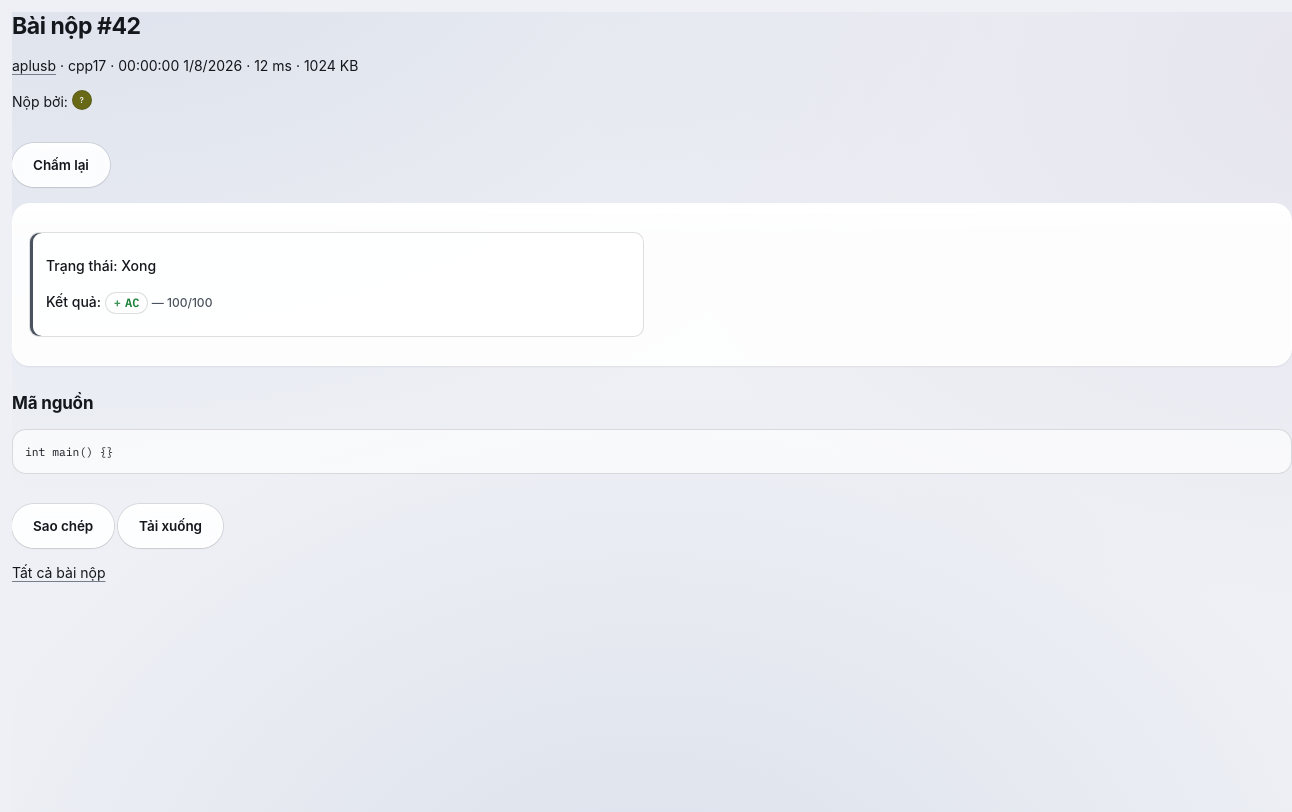
Test: rejudging one submission › a transport failure does not wedge the button
Click the button "Chấm lại": (61, 165) x1=12 y1=143 x2=110 y2=187
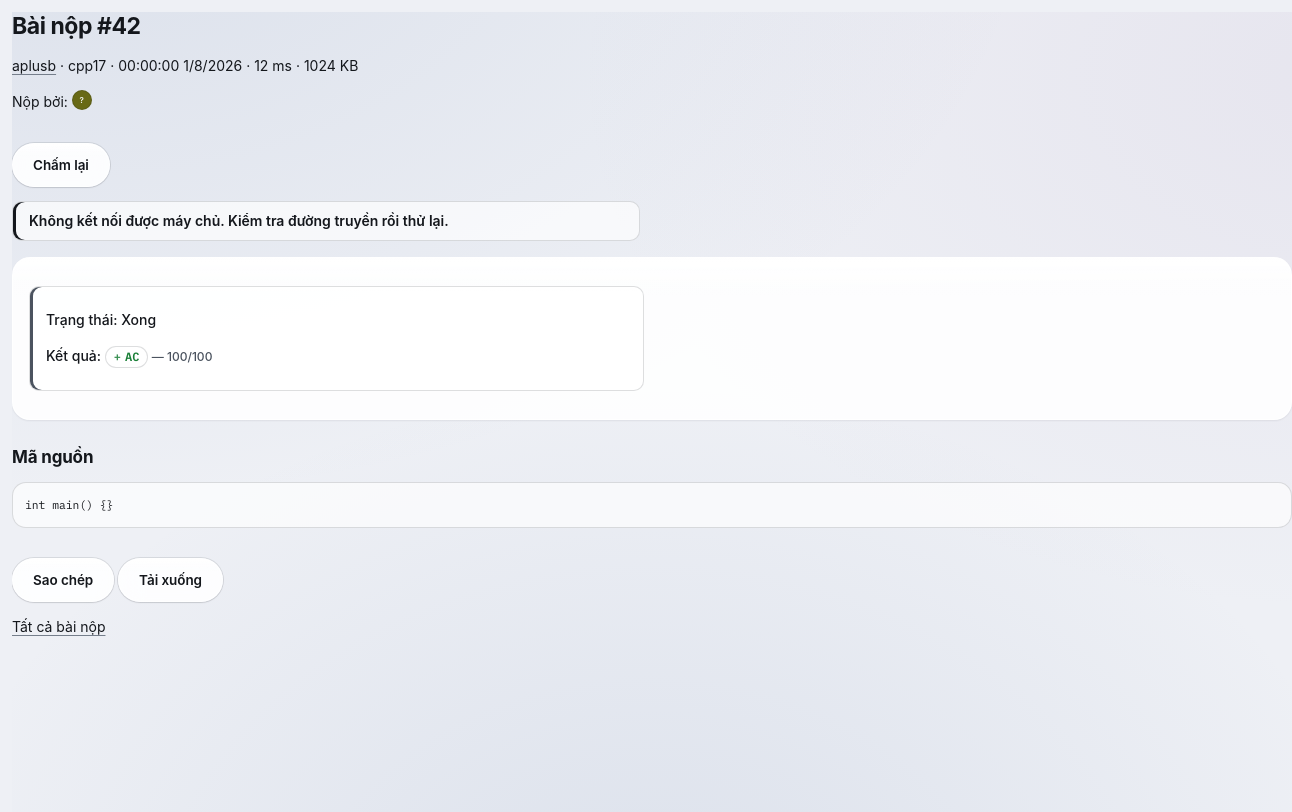
Now the message "Không kết nối được máy chủ. Kiểm tra đường truyền rồi thử lại." is shown, box x1=12 y1=201 x2=640 y2=241
